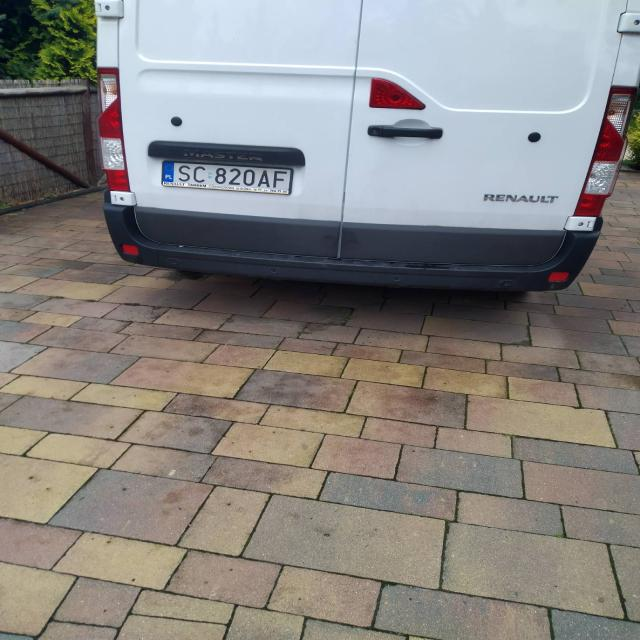pl_license_plate: (163, 161, 290, 190)
